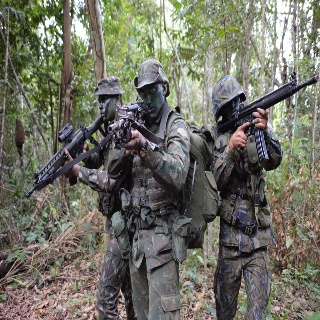rifle: (216, 70, 318, 162), (24, 113, 102, 197), (107, 101, 149, 144)
